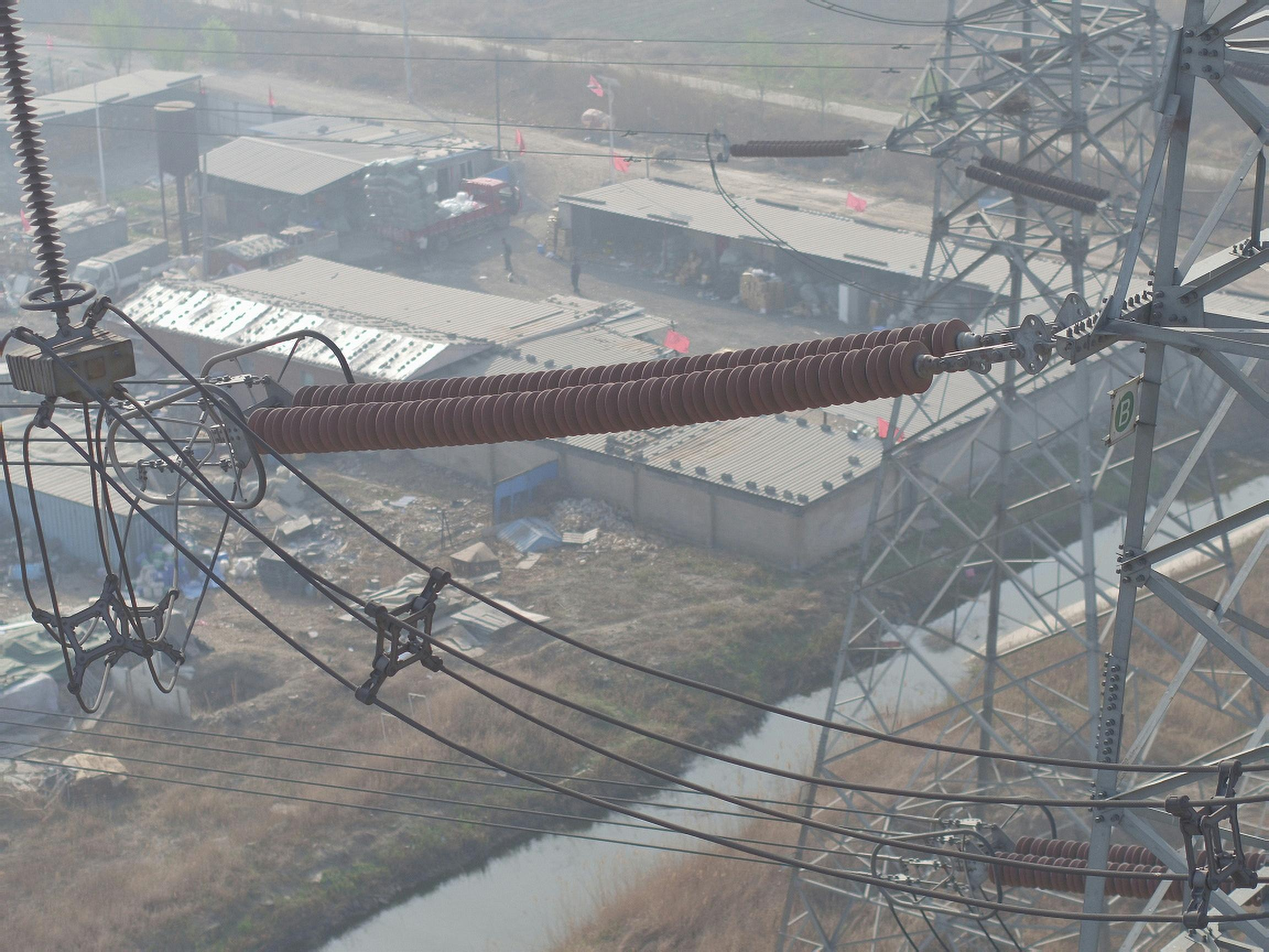insulator: (241, 315, 975, 461), (985, 834, 1269, 909), (1, 1, 73, 294), (962, 151, 1112, 217), (726, 137, 866, 160)
